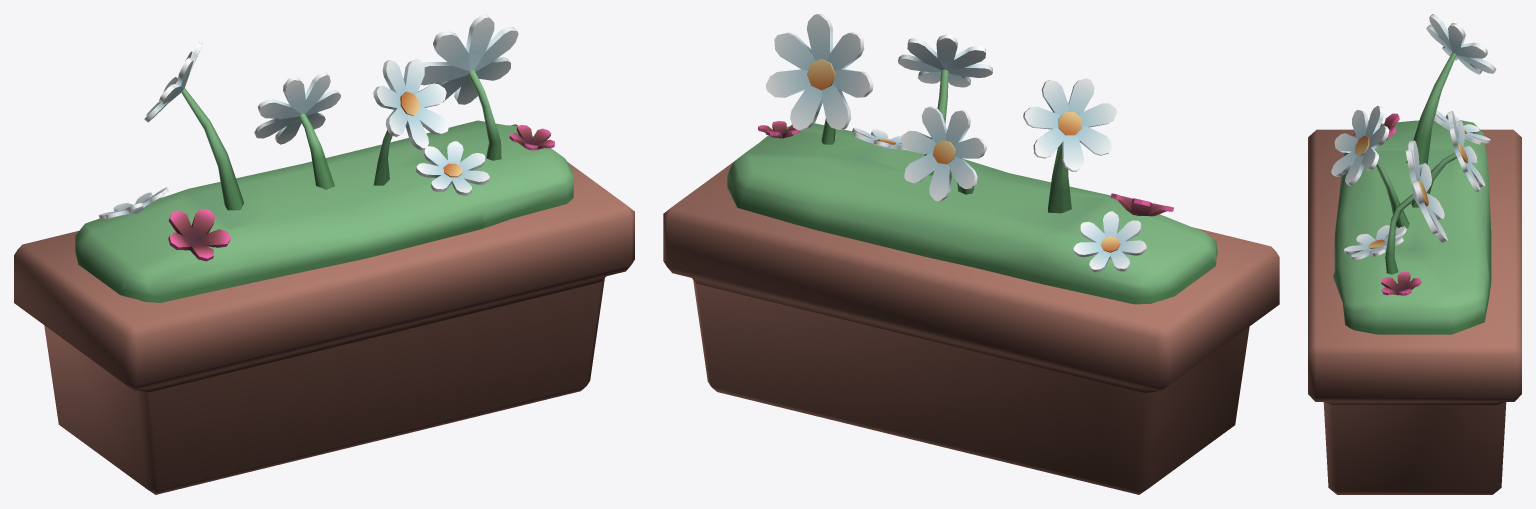
Rendered from SM_FlowerPot_Flowers.fbx.
3 renders of one model, left to right at view 1: azimuth 30°, elevation 25°; view 2: azimuth 150°, elevation 25°; view 3: azimuth 270°, elevation 25°, orthographic. The views are drawn at different scales.
Parts seen in each view (by area): view 1: SM_FlowerPot_Flowers; view 2: SM_FlowerPot_Flowers; view 3: SM_FlowerPot_Flowers.
Boxes of the visible parts, bbox=[...] form: SM_FlowerPot_Flowers: bbox=[14, 14, 634, 494]; SM_FlowerPot_Flowers: bbox=[663, 14, 1279, 494]; SM_FlowerPot_Flowers: bbox=[1308, 14, 1521, 494].
Size of the model in its own units: 200 by 141 by 81.54.
